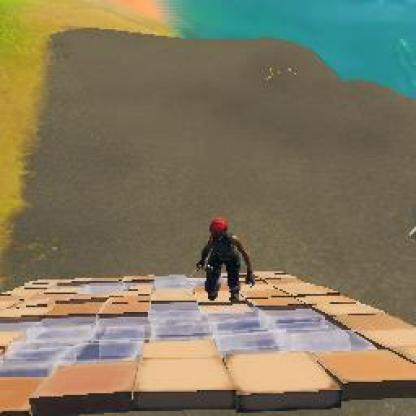dumpster: (195, 216, 253, 302)
